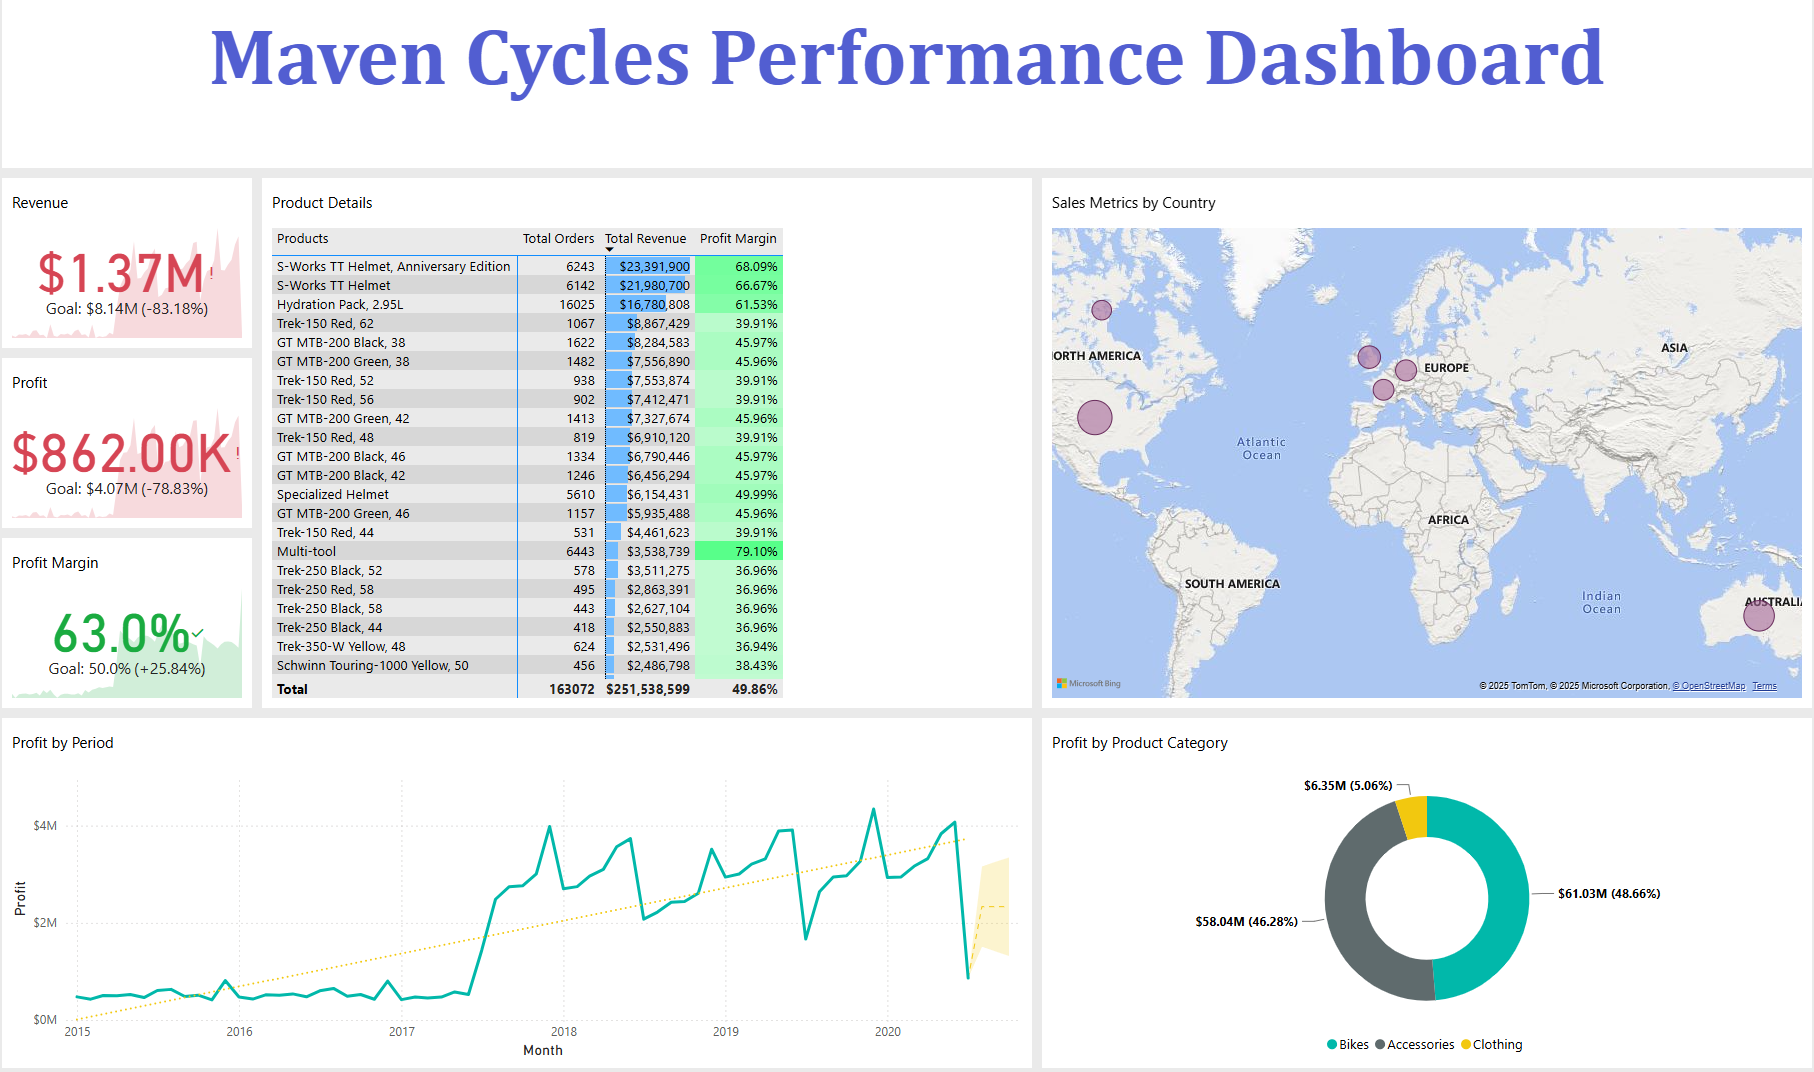

The dashboard page shown, as its layout file describes it:
{"tool":"powerbi","page":{"name":"Executive View","canvas":[1280,720],"ordinal":0},"visuals":[{"type":"kpi","title":"Revenue","fields":{"Indicator":["Sales.Total Revenue"],"TrendLine":["Calendar.Month"],"Goal":["Sales.Last month revenue"]},"box":[482.5,8.8,260,160],"z":0},{"type":"kpi","title":"Profit","fields":{"TrendLine":["Calendar.Month"],"Indicator":["Sales.Profit"],"Goal":["Sales.Last month Profit"]},"box":[756.2,8.8,251.2,160],"z":1000},{"type":"kpi","title":"Profit Margin","fields":{"TrendLine":["Calendar.Month"],"Goal":["Sales.Last month Profit Margin"],"Indicator":["Sales.Profit Margin"]},"box":[1020,8.8,252.5,160],"z":2000},{"type":"pivotTable","title":"Product Details","fields":{"Rows":["Product Details.Product New"],"Values":["Sales.Total Orders","Sales.Total Revenue","Sales.Profit Margin"]},"box":[7.8,178.9,530,528.9],"z":3000},{"type":"map","title":"Sales Metrics by Country","fields":{"Category":["Regions.Country"],"Size":["Sales.Total Revenue"]},"box":[548.9,178.9,574.4,268.9],"z":4000},{"type":"lineChart","title":"Profit by Period","fields":{"Category":["Calendar.Month","Calendar.Quarter","Calendar.Year"],"Y":["Sales.Profit"]},"box":[548.9,456.7,458.9,251.1],"z":5000},{"type":"donutChart","title":"Profit by Product Category","fields":{"Y":["Sales.Profit"],"Category":["Product Categories Keys.Product Category"]},"box":[1020,456.7,252.2,255.6],"z":6000},{"type":"image","box":[7.8,8.9,184.4,133.3],"z":7000},{"type":"slicer","fields":{"Values":["Calendar.Date"]},"box":[200,8.9,273.3,91.1],"z":8000},{"type":"actionButton","box":[100,135.6,31.1,40],"z":9000},{"type":"actionButton","box":[71.1,142.2,28.9,25.6],"z":10000},{"type":"slicer","fields":{"Values":["Regions.Continent"]},"box":[1123.3,174.4,148.9,273.3],"z":11000},{"type":"slicer","fields":{"Values":["Product Subcategories Keys.Sub-Category"]},"box":[200,100,273.3,68.9],"z":12000}]}

Visuals, with their boxes on the page's 1280x720 design canvas (x1, y1, x2, y2). These are canvas units, not pixel positions in the 1814x1072 screenshot, which may show the page scaled, cropped or inside an application window:
"Revenue" kpi: 482,9,742,169
"Profit" kpi: 756,9,1007,169
"Profit Margin" kpi: 1020,9,1272,169
"Product Details" pivotTable: 8,179,538,708
"Sales Metrics by Country" map: 549,179,1123,448
"Profit by Period" lineChart: 549,457,1008,708
"Profit by Product Category" donutChart: 1020,457,1272,712
image: 8,9,192,142
slicer - Calendar.Date: 200,9,473,100
actionButton: 100,136,131,176
actionButton: 71,142,100,168
slicer - Regions.Continent: 1123,174,1272,448
slicer - Product Subcategories Keys.Sub-Category: 200,100,473,169
